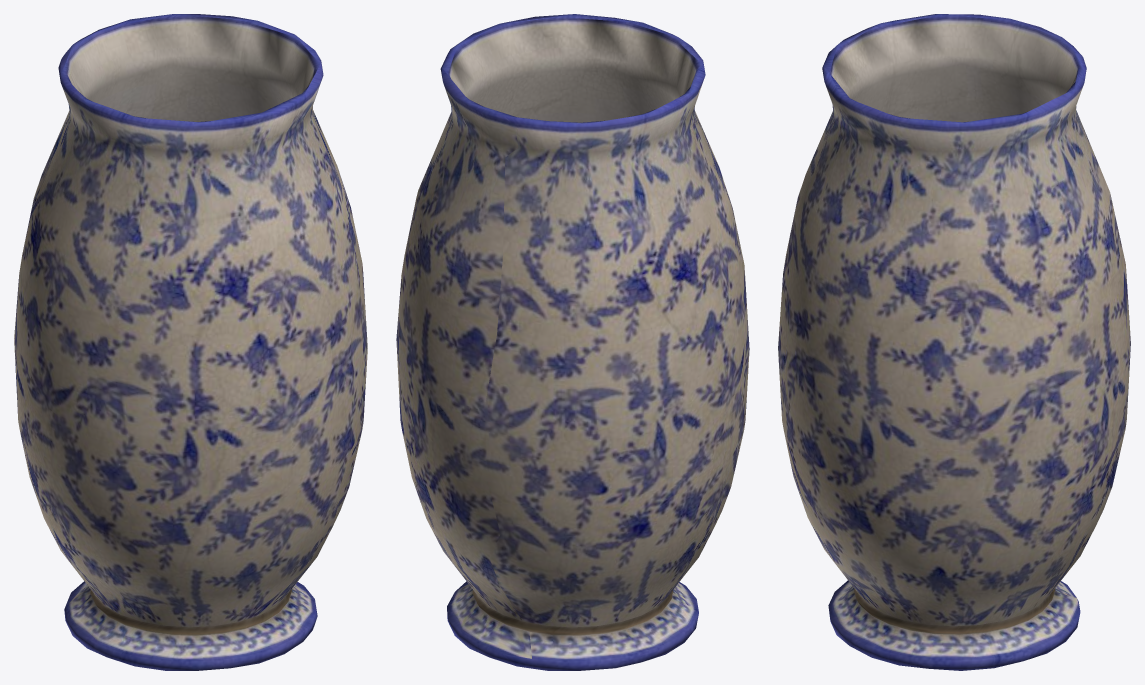
Rendered from antique_ceramic_vase_01.glb.
3 views of the same model, side by side, from view 1: azimuth 30°, elevation 25°; view 2: azimuth 150°, elevation 25°; view 3: azimuth 270°, elevation 25° (orthographic).
Parts seen in each view (by area): view 1: lod0; view 2: lod0; view 3: lod0.
Boxes of the visible parts, box(x1,y1,x2,y2) form: lod0: box(14, 14, 367, 670); lod0: box(396, 14, 749, 670); lod0: box(778, 14, 1130, 670).
Size of what is drawn, in the model's own units: 0.2554 by 0.4399 by 0.2554.
Materials: 1 (1 with a texture image).
